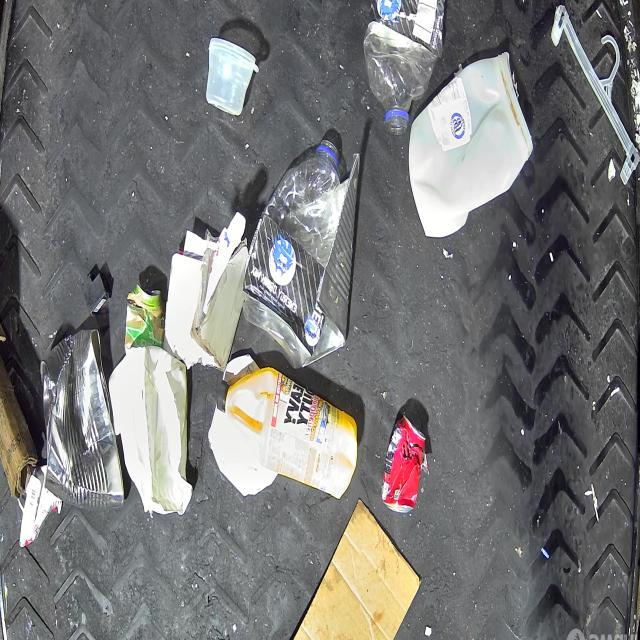can: (40, 331, 126, 509), (381, 413, 426, 513), (126, 286, 168, 350)
milk_jug: (408, 52, 534, 235)
non_white_jug: (216, 366, 358, 499)
plastic_bottle: (238, 144, 340, 372), (362, 0, 440, 135)
